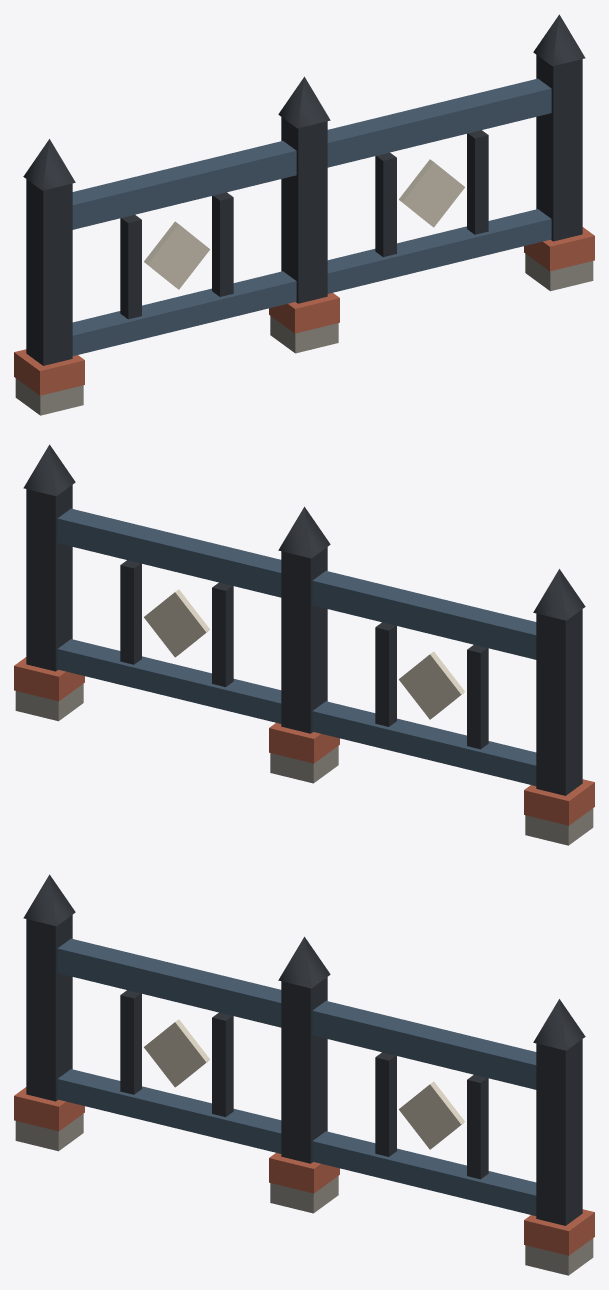
Rendered from park-railing-section.glb.
The picture shows the model from 3 angles, top to bottom: view 1: azimuth 30°, elevation 25°; view 2: azimuth 150°, elevation 25°; view 3: azimuth 330°, elevation 25°; orthographic projection.
Visible parts, largest first — view 1: Merged_city-metal-dark, Merged_prop-body, Merged_prop-accent, Merged_prop-body-light, Merged_city-curb; view 2: Merged_city-metal-dark, Merged_prop-body, Merged_prop-accent, Merged_prop-body-light, Merged_city-curb; view 3: Merged_city-metal-dark, Merged_prop-body, Merged_prop-accent, Merged_prop-body-light, Merged_city-curb.
Part boxes in pixels (bbox=[...]): Merged_city-metal-dark: bbox=[23, 14, 585, 365]; Merged_prop-body: bbox=[72, 78, 551, 355]; Merged_prop-accent: bbox=[14, 227, 594, 395]; Merged_prop-body-light: bbox=[144, 159, 464, 289]; Merged_city-curb: bbox=[15, 254, 593, 415]; Merged_city-metal-dark: bbox=[23, 444, 585, 795]; Merged_prop-body: bbox=[57, 508, 536, 785]; Merged_prop-accent: bbox=[14, 657, 594, 825]; Merged_prop-body-light: bbox=[144, 589, 464, 719]; Merged_city-curb: bbox=[15, 684, 593, 845]; Merged_city-metal-dark: bbox=[23, 874, 585, 1225]; Merged_prop-body: bbox=[57, 938, 536, 1215]; Merged_prop-accent: bbox=[14, 1087, 594, 1255]; Merged_prop-body-light: bbox=[144, 1019, 464, 1149]; Merged_city-curb: bbox=[15, 1114, 593, 1275].
Size of what is drawn, in the model's own units: 2.83 by 1.28 by 0.23.
